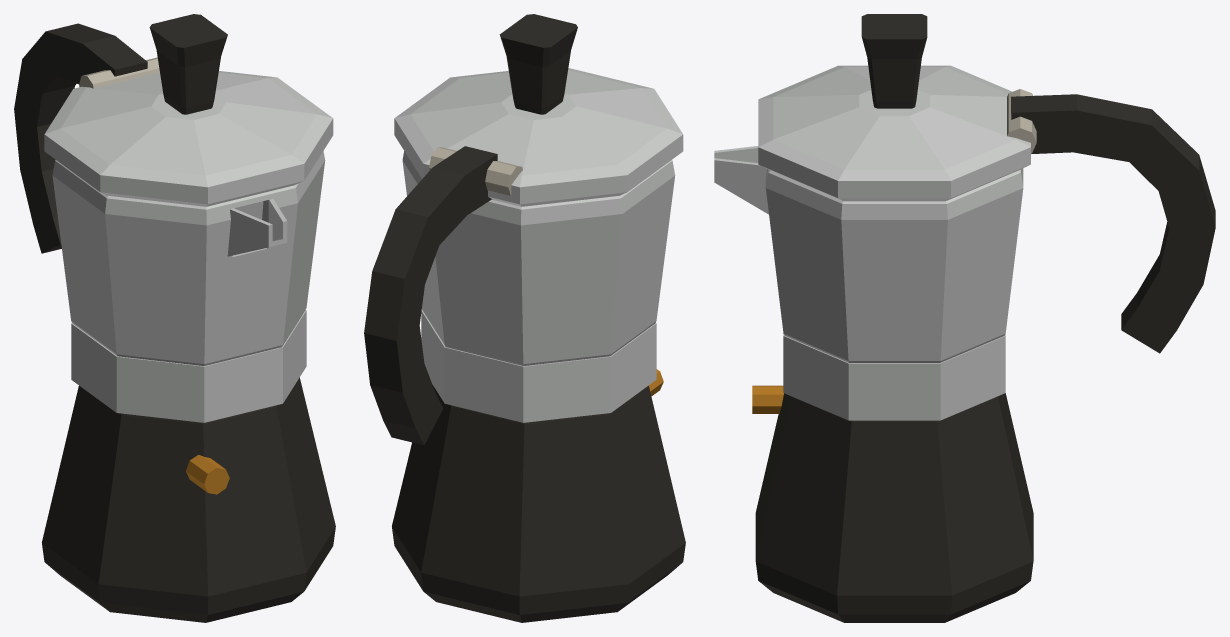
Rendered from SM_Cook_MokaPot_Black_01.fbx.
3 renders of one model, left to right at view 1: azimuth 30°, elevation 25°; view 2: azimuth 150°, elevation 25°; view 3: azimuth 270°, elevation 25°, orthographic.
Parts seen in each view (by area): view 1: SM_Cook_MokaPot_Black_01; view 2: SM_Cook_MokaPot_Black_01; view 3: SM_Cook_MokaPot_Black_01.
Boxes of the visible parts, x1,y1,x2,y2 form: SM_Cook_MokaPot_Black_01: (14,14,335,622); SM_Cook_MokaPot_Black_01: (364,14,685,622); SM_Cook_MokaPot_Black_01: (714,14,1215,622).
Size of the model in its own units: 0.127 by 0.275 by 0.2294.
1 material, 1 textured.
